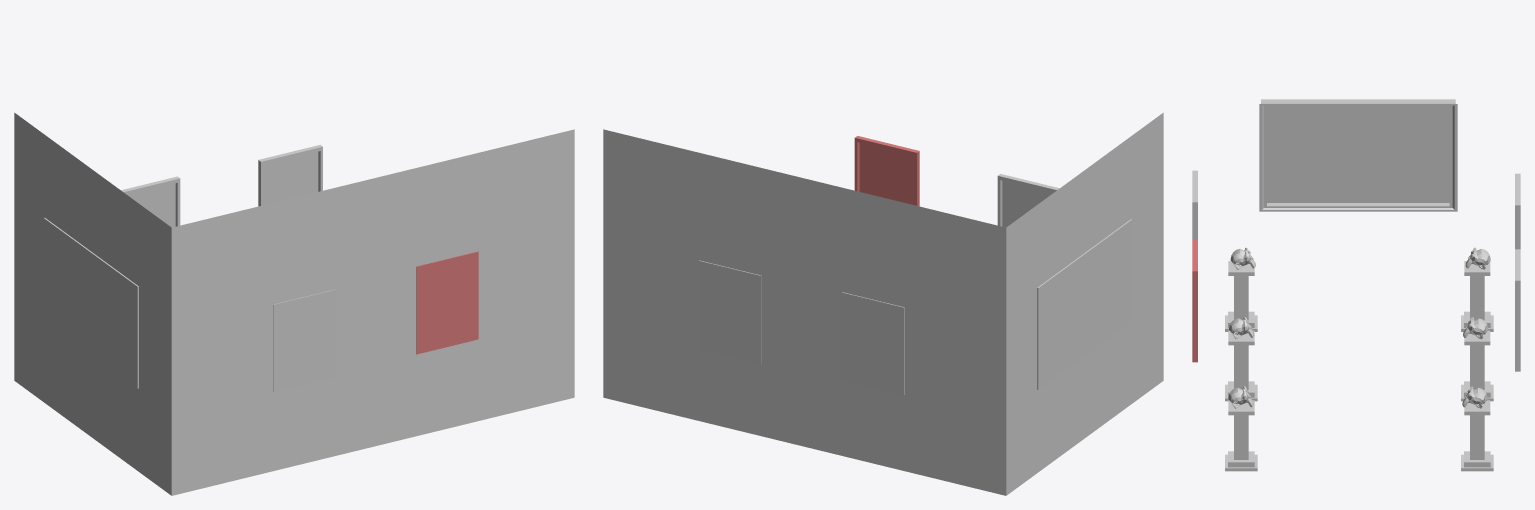
Rendered from MuseumScene.gltf.
3 renders of one model, left to right at view 1: azimuth 30°, elevation 25°; view 2: azimuth 150°, elevation 25°; view 3: azimuth 270°, elevation 25°, orthographic. The views are drawn at different scales.
Visible parts, largest first — view 1: Walls, Big Painting, Painting.2, Painting.1, Painting.3, Painting.4; view 2: Walls, Big Painting, Painting.4, Painting.3, Painting.1, Painting.2; view 3: Big Painting, Column.3, Column.4, Column.5, Column.6, Column.1, Column.2, Painting.1, Painting.3, Painting.4, Painting.2, Monkey.6 (+5 smaller).
Boxes of the visible parts, x1,y1,x2,y2 form: Walls: (14,112,574,495); Big Painting: (43,218,138,388); Painting.2: (273,289,335,392); Painting.1: (416,251,478,354); Painting.3: (258,144,322,206); Painting.4: (121,176,180,227); Walls: (603,112,1163,495); Big Painting: (1037,219,1132,389); Painting.4: (841,292,904,395); Painting.3: (699,260,761,363); Painting.1: (854,136,919,206); Painting.2: (997,174,1059,227); Big Painting: (1259,99,1457,211); Column.3: (1461,400,1493,471); Column.4: (1225,400,1257,471); Column.5: (1225,330,1257,401); Column.6: (1225,261,1257,331); Column.1: (1461,261,1493,331); Column.2: (1461,330,1493,401); Painting.1: (1192,239,1197,362); Painting.3: (1515,249,1520,371); Painting.4: (1515,173,1520,249); Painting.2: (1192,170,1197,239); Monkey.6: (1228,386,1253,408).
Size of the model in its own units: 16.51 by 10.49 by 11.2.
